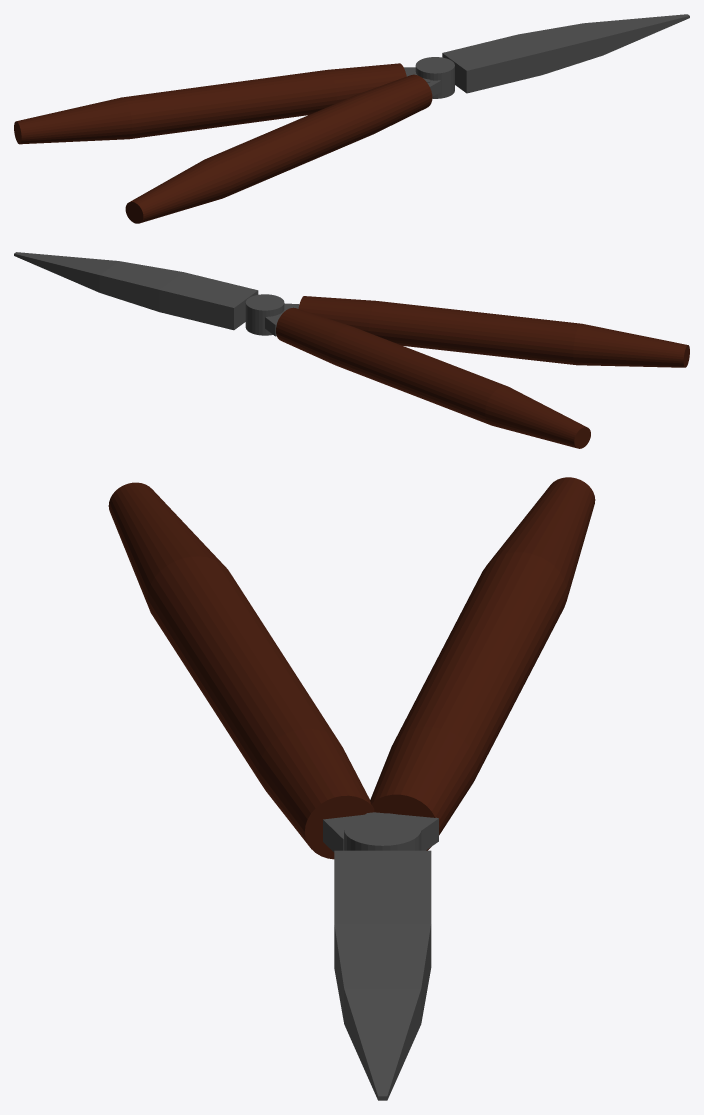
The model's file is Shears.fbx.
The picture shows the model from 3 angles, top to bottom: view 1: azimuth 30°, elevation 25°; view 2: azimuth 150°, elevation 25°; view 3: azimuth 270°, elevation 25°; orthographic projection. The views are drawn at different scales.
Visible parts, largest first — view 1: Cube.002; view 2: Cube.002; view 3: Cube.002.
Boxes of the visible parts, x1,y1,x2,y2 form: Cube.002: [14, 14, 689, 223]; Cube.002: [14, 252, 689, 448]; Cube.002: [108, 477, 595, 1100].
Bounding box in the file's own units: 12 × 0.6943 × 4.1.
